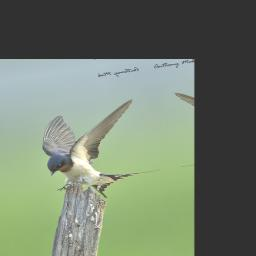Swallow: (33, 95, 166, 205)
